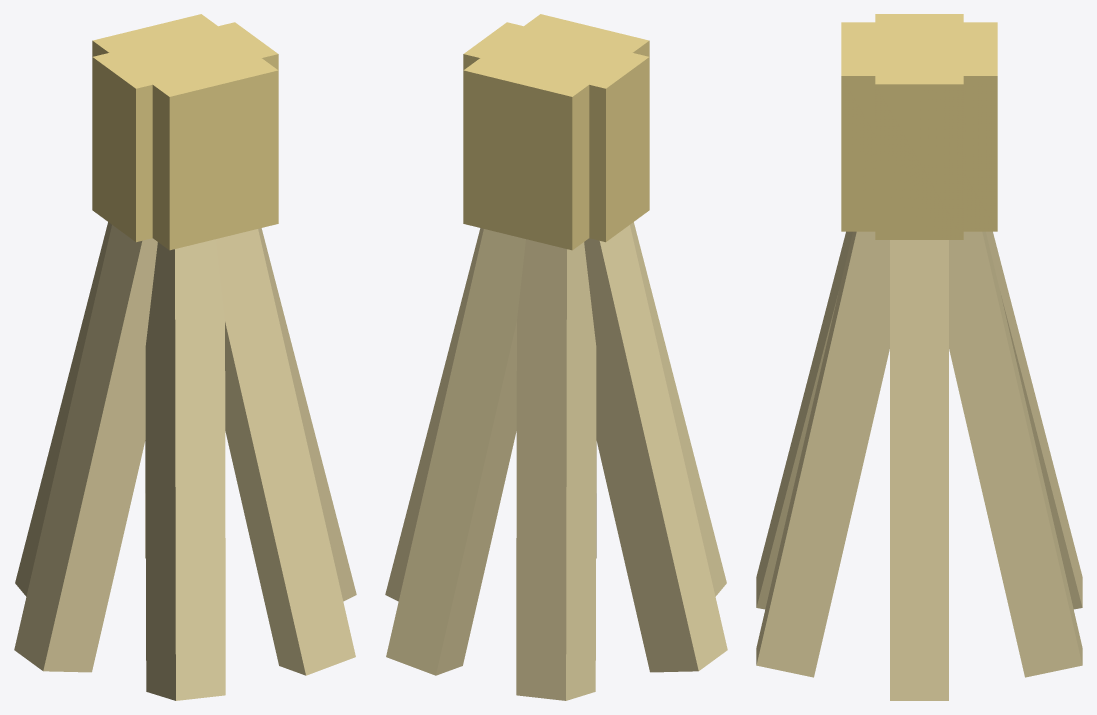
Rendered from wheat.glb.
3 renders of one model, left to right at view 1: azimuth 30°, elevation 25°; view 2: azimuth 150°, elevation 25°; view 3: azimuth 270°, elevation 25°, orthographic.
Parts seen in each view (by area): view 1: wheat; view 2: wheat; view 3: wheat.
Boxes of the visible parts, <box> form: wheat: <box>14,14,356,700</box>; wheat: <box>385,14,727,700</box>; wheat: <box>756,14,1082,700</box>.
Size of the model in its own units: 0.7484 by 1.33 by 0.6653.
